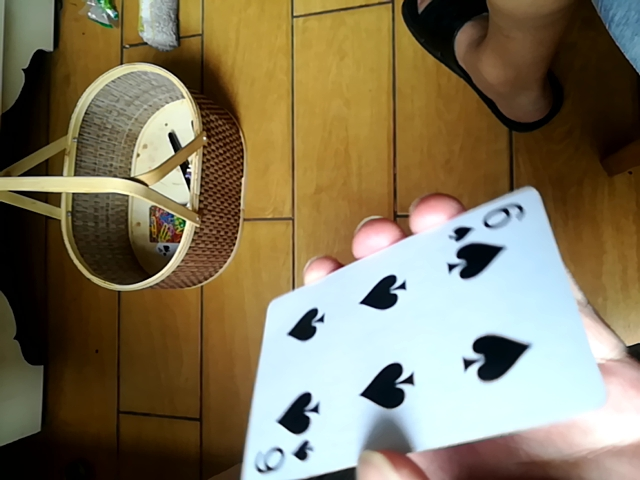ht 6: (241, 186, 612, 478)
